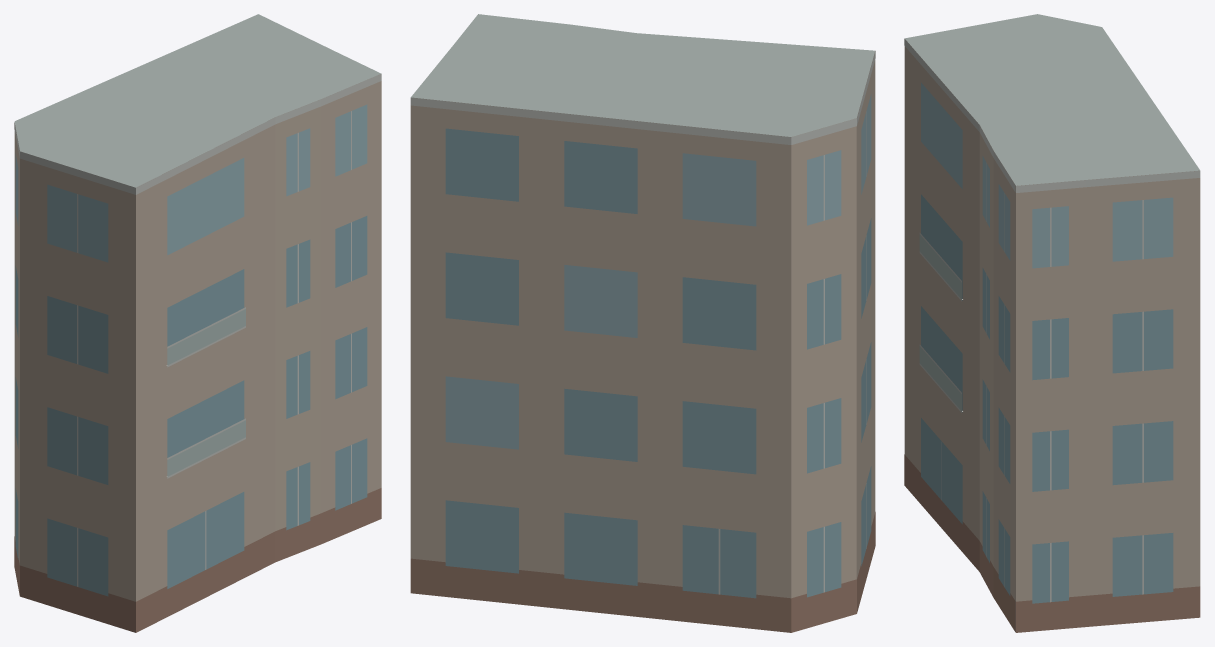
Rendered from survey-upis-32469900.glb.
The picture shows the model from 3 angles, left to right: view 1: azimuth 30°, elevation 25°; view 2: azimuth 150°, elevation 25°; view 3: azimuth 270°, elevation 25°; orthographic projection. The views are drawn at different scales.
Parts seen in each view (by area): view 1: survey-upis-32469900.tmp; view 2: survey-upis-32469900.tmp; view 3: survey-upis-32469900.tmp.
Boxes of the visible parts, box(x1,y1,x2,y2) form: survey-upis-32469900.tmp: box(14, 14, 381, 632); survey-upis-32469900.tmp: box(410, 14, 875, 632); survey-upis-32469900.tmp: box(904, 14, 1200, 632).
Bounding box in the file's own units: 12.38 × 15 × 9.01.
